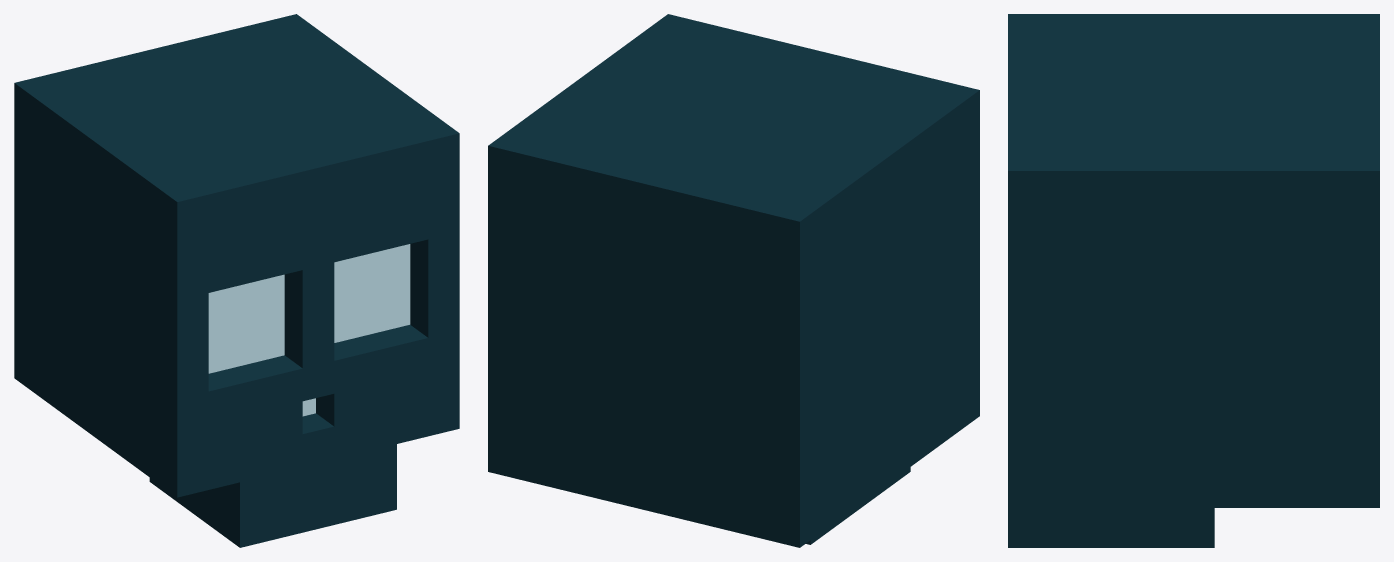
Rendered from crystal skull 1.vox.obj.
The picture shows the model from 3 angles, left to right: view 1: azimuth 30°, elevation 25°; view 2: azimuth 150°, elevation 25°; view 3: azimuth 270°, elevation 25°; orthographic projection. The views are drawn at different scales.
Bounding box in the file's own units: 0.9 × 1.1 × 0.9.
Materials: 1 (1 with a texture image).
